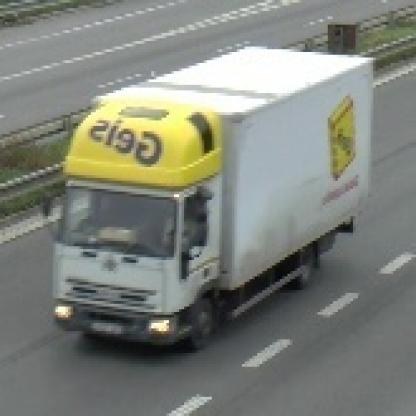truck: (41, 39, 372, 349)
